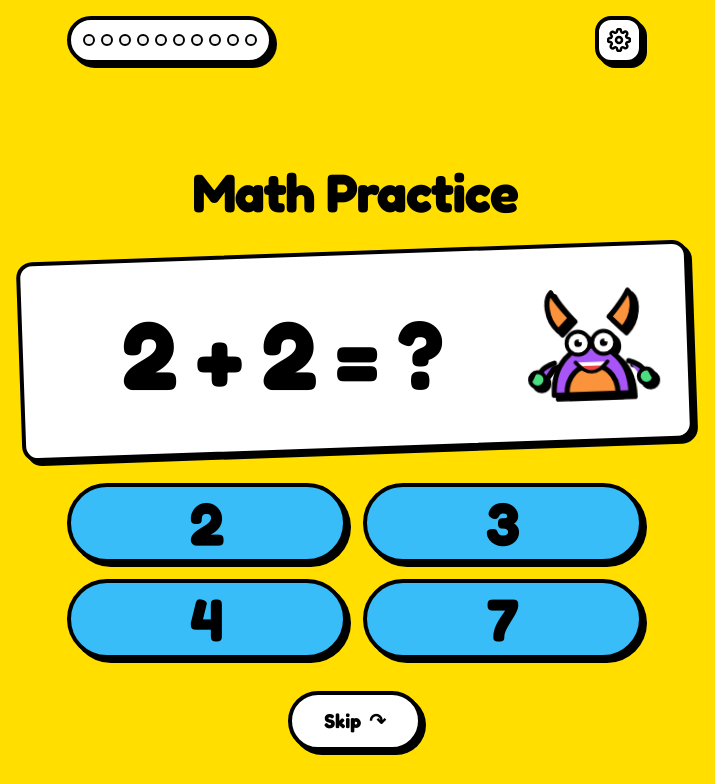
Test case: Home Page settings link › keeps the settings link enabled after a correct answer
Click the button "4": (207, 619) left=67, top=579, right=347, bottom=659
Wait 2500 ms
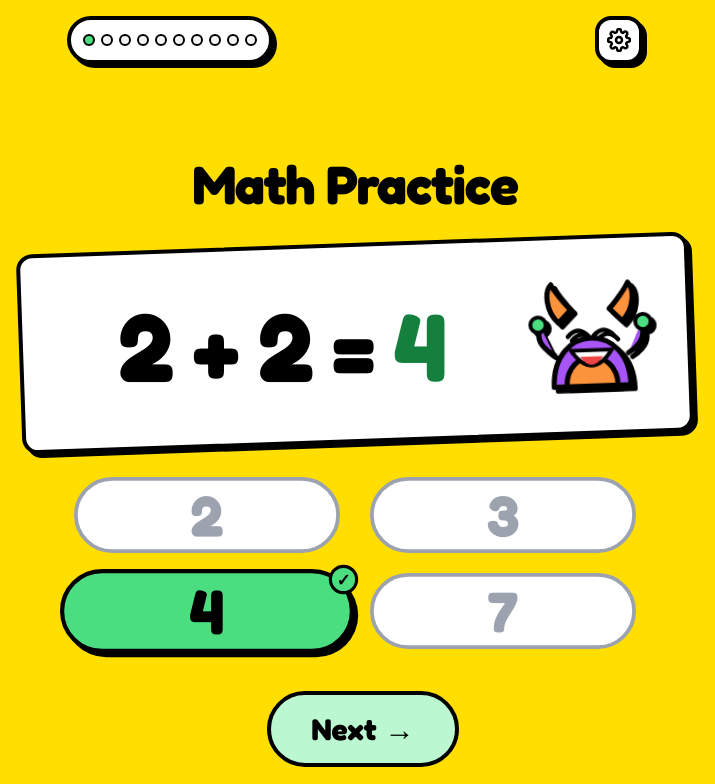
Expected: the text "Next" is shown, left=311, top=711, right=377, bottom=747
